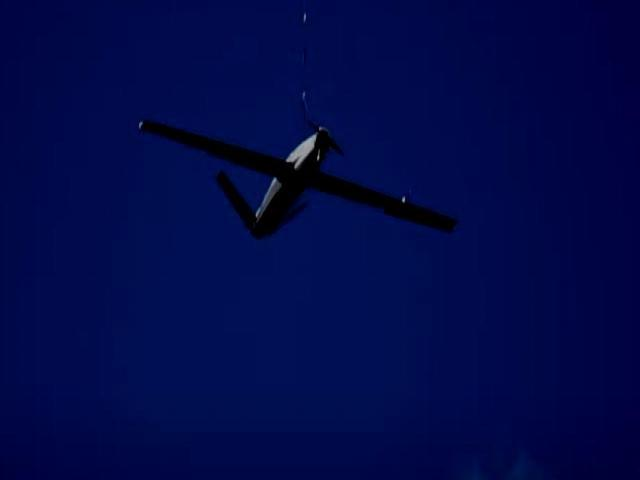iha: (124, 111, 457, 250)
